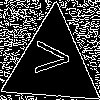V: (27, 39, 70, 76)
